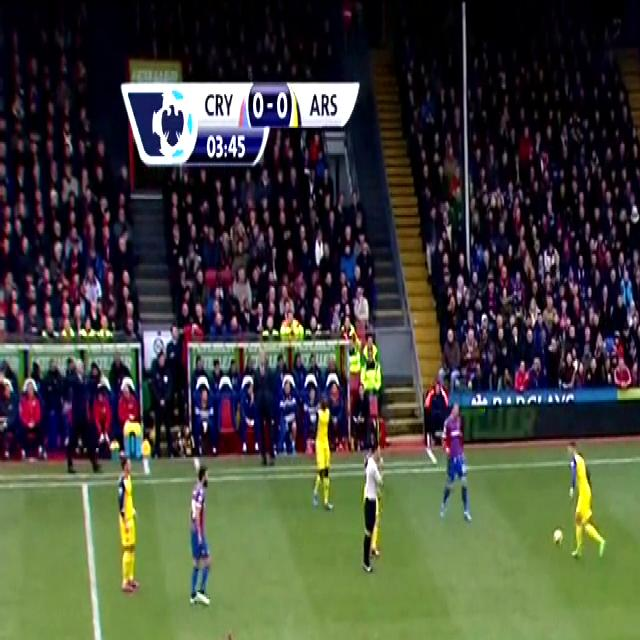ball: (553, 523, 569, 563)
referee: (350, 437, 387, 586)
soccer-player: (560, 432, 607, 578), (434, 389, 477, 530), (178, 460, 216, 616), (110, 449, 145, 604), (310, 393, 339, 514), (177, 624, 250, 640)
